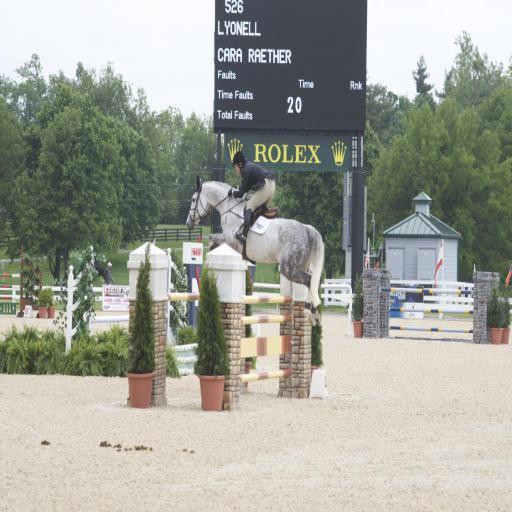Horse: (184, 172, 324, 306)
